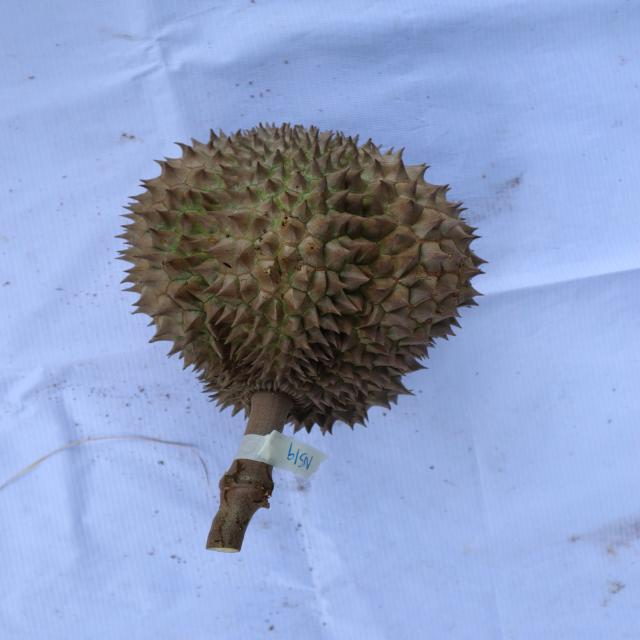mature: (114, 122, 490, 426)
